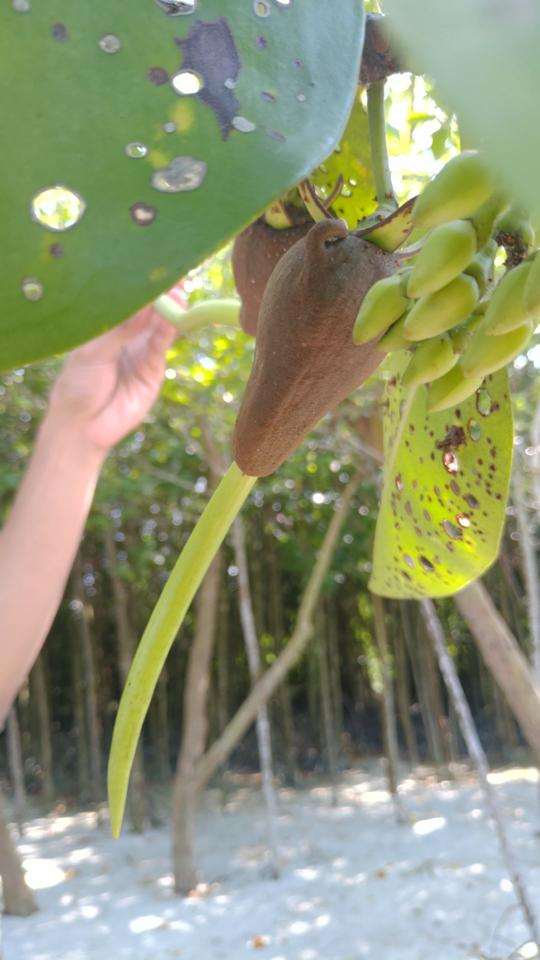mentah: (67, 179, 449, 863)
